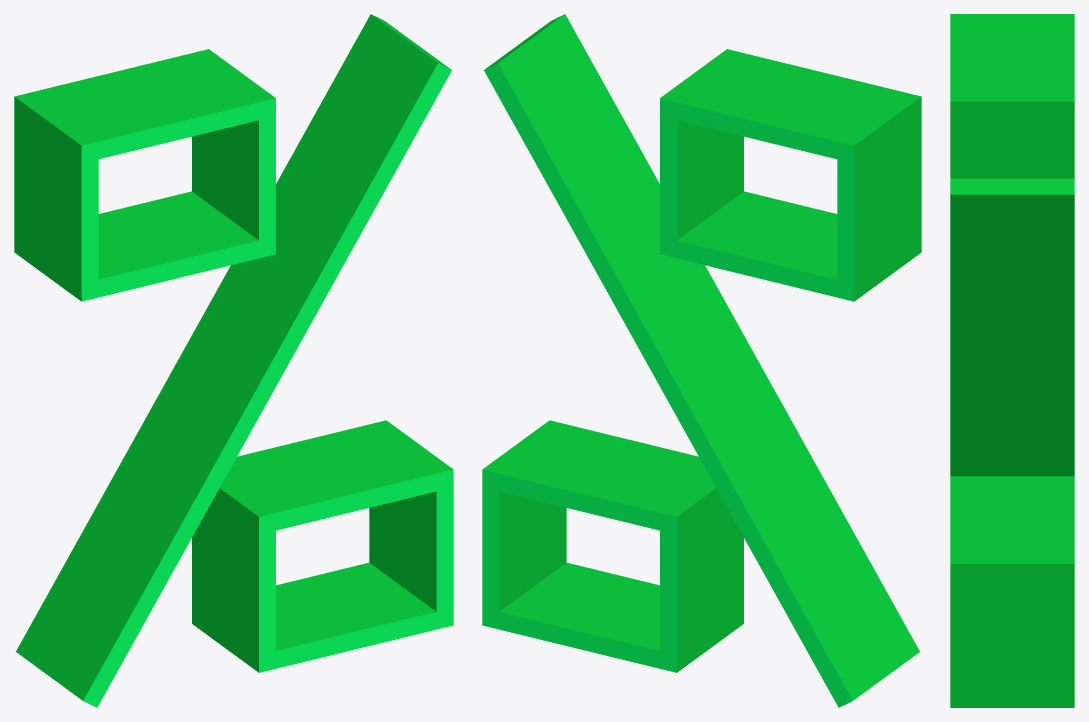
3 renders of one model, left to right at view 1: azimuth 30°, elevation 25°; view 2: azimuth 150°, elevation 25°; view 3: azimuth 270°, elevation 25°, orthographic. The views are drawn at different scales.
Parts seen in each view (by area): view 1: %_AlphaProta_Green; view 2: %_AlphaProta_Green; view 3: %_AlphaProta_Green.
Boxes of the visible parts, bbox=[...] form: %_AlphaProta_Green: bbox=[14, 14, 453, 707]; %_AlphaProta_Green: bbox=[482, 14, 921, 707]; %_AlphaProta_Green: bbox=[950, 14, 1074, 707].
Size of what is drawn, in the model's own units: 0.1436 by 0.2105 by 0.045.
2 materials, 2 textured.
